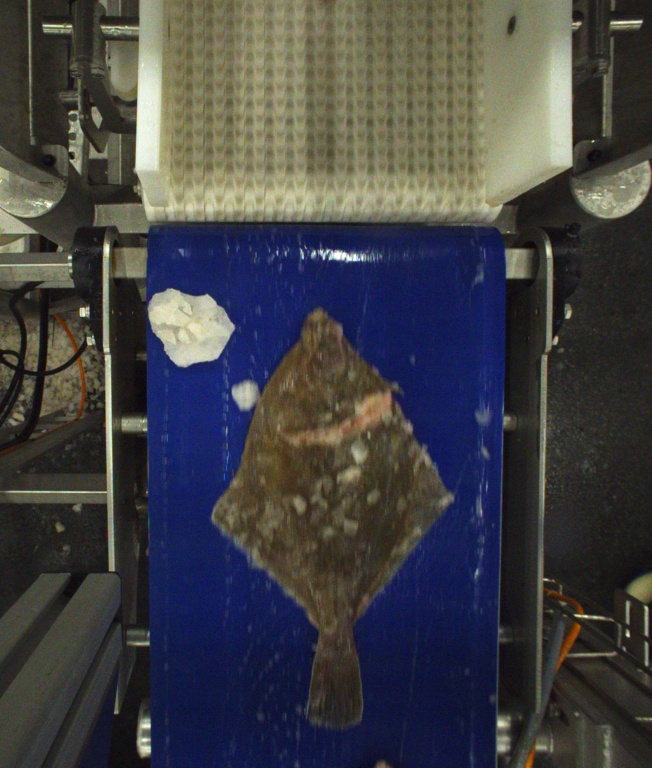PLE: (211, 307, 456, 734)
